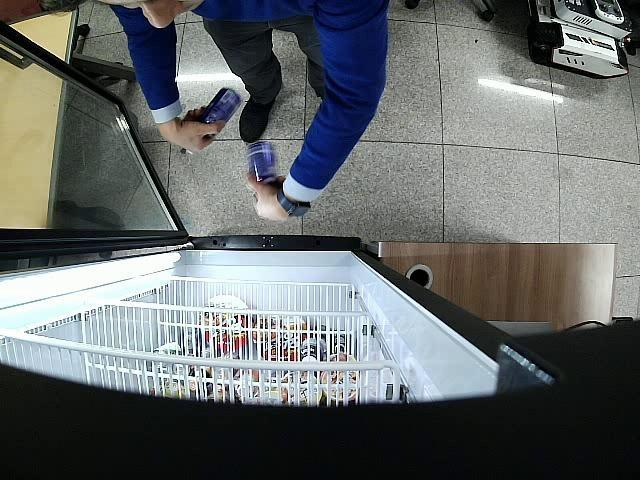14_welchsGrape: (202, 88, 242, 136), (248, 141, 276, 184)
